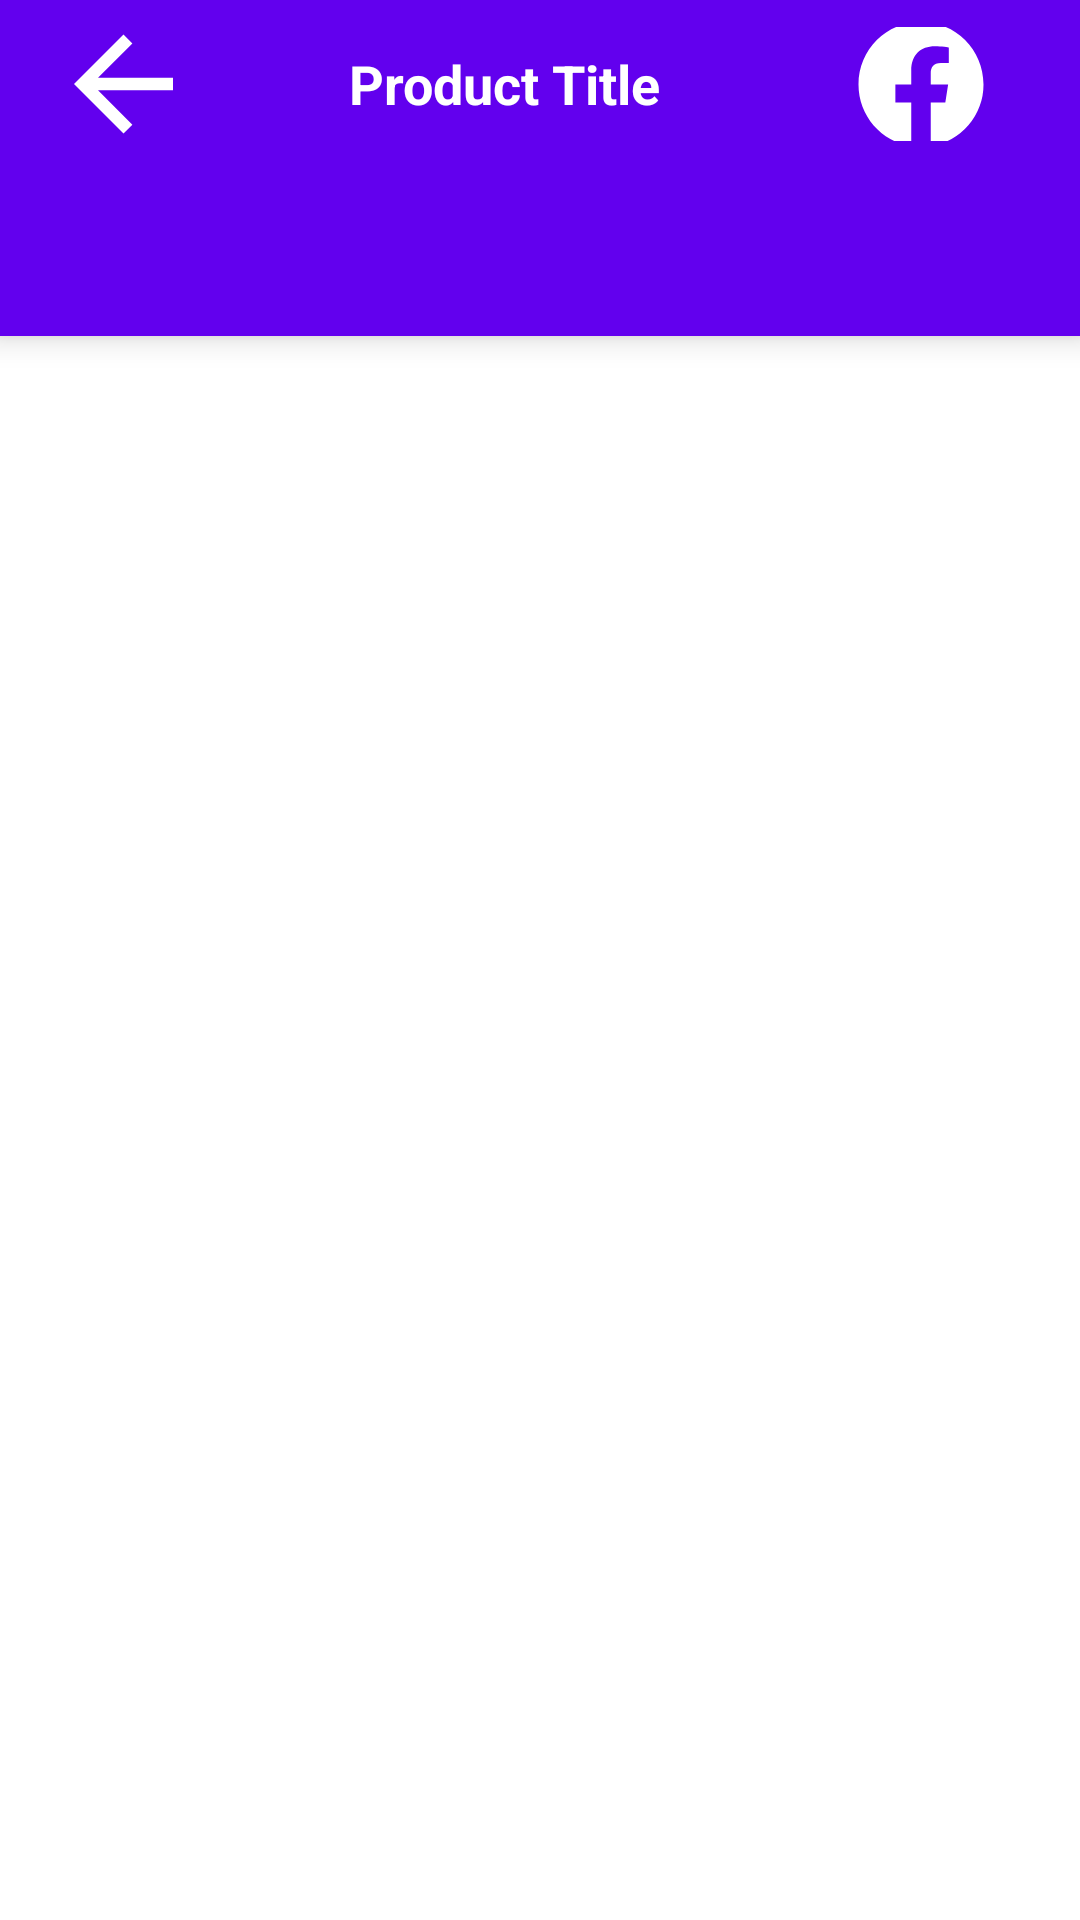

Screen size 1080x1920. Icon name, then its center in pixels as point (x, y):
back: point (123, 84)
